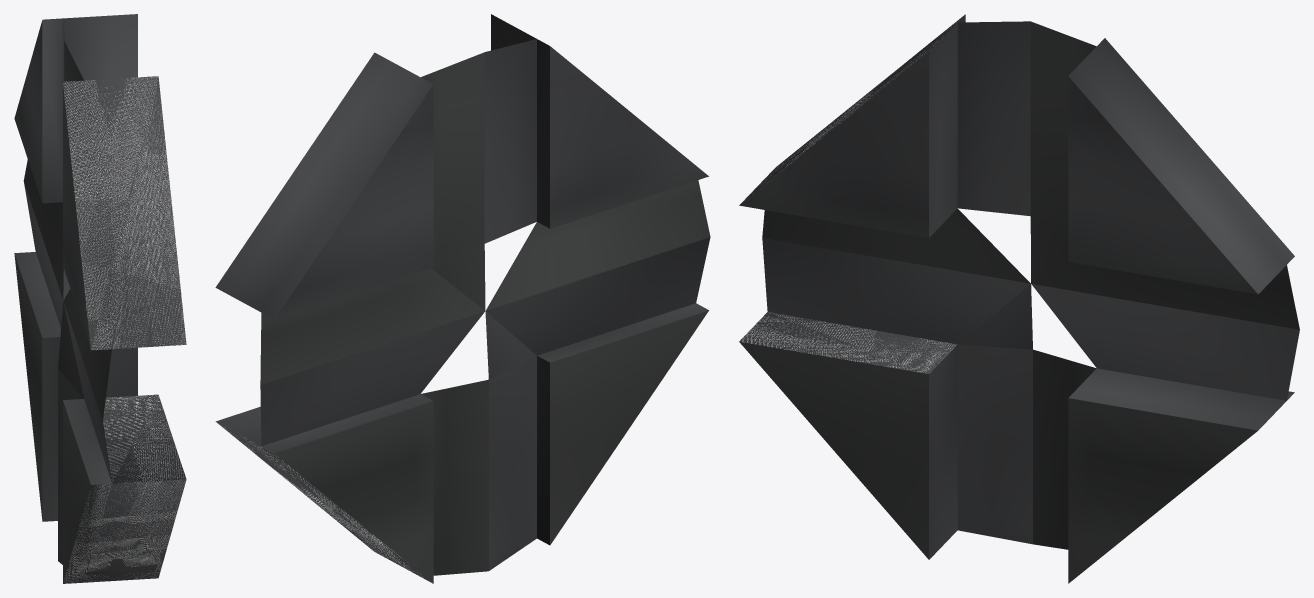
File: original-16.obj
The picture shows the model from 3 angles, left to right: view 1: azimuth 30°, elevation 25°; view 2: azimuth 150°, elevation 25°; view 3: azimuth 270°, elevation 25°; orthographic projection.
Visible parts, largest first — view 1: skruetopp_enkel_1_1/skruetopp_enkel_1/mesh9/mesh9-geometry#mesh9; view 2: skruetopp_enkel_1_1/skruetopp_enkel_1/mesh9/mesh9-geometry#mesh9; view 3: skruetopp_enkel_1_1/skruetopp_enkel_1/mesh9/mesh9-geometry#mesh9.
Boxes of the visible parts, <box> form: skruetopp_enkel_1_1/skruetopp_enkel_1/mesh9/mesh9-geometry#mesh9: <box>14,14,186,583</box>; skruetopp_enkel_1_1/skruetopp_enkel_1/mesh9/mesh9-geometry#mesh9: <box>215,14,710,583</box>; skruetopp_enkel_1_1/skruetopp_enkel_1/mesh9/mesh9-geometry#mesh9: <box>739,14,1299,583</box>.
Bounding box in the file's own units: 0.0174 × 0.0335 × 0.0324.
